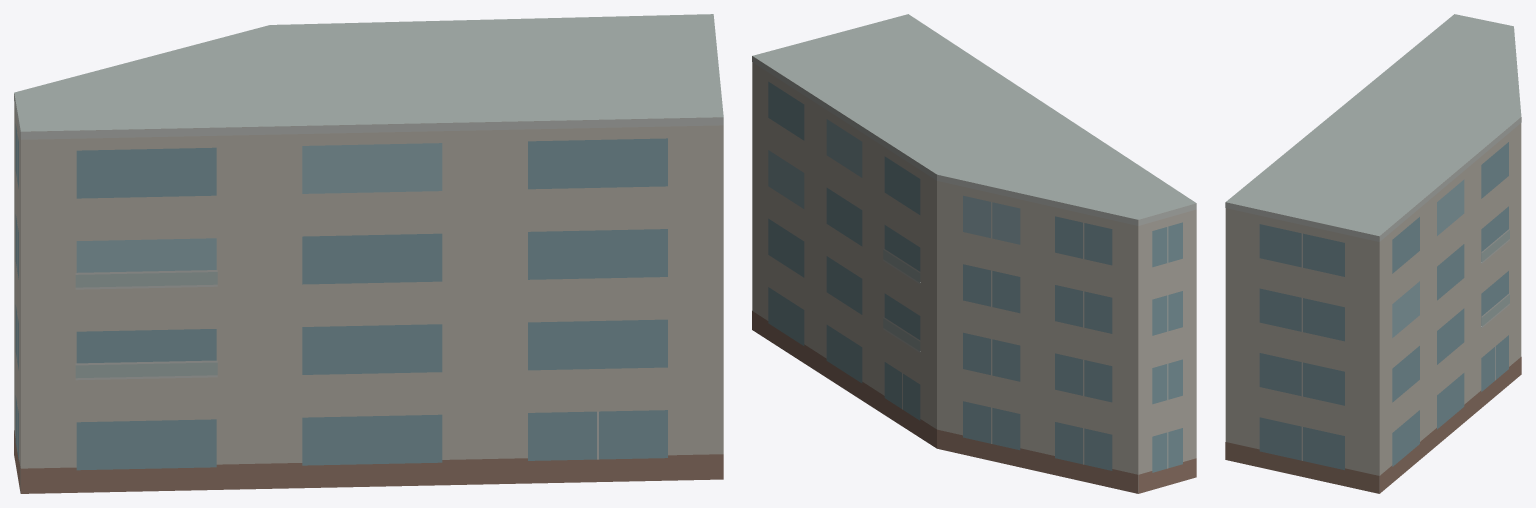
File: survey-upis-32519448.glb
The picture shows the model from 3 angles, left to right: view 1: azimuth 30°, elevation 25°; view 2: azimuth 150°, elevation 25°; view 3: azimuth 270°, elevation 25°; orthographic projection. The views are drawn at different scales.
Visible parts, largest first — view 1: survey-upis-32519448.tmp; view 2: survey-upis-32519448.tmp; view 3: survey-upis-32519448.tmp.
Part boxes in pixels (box(x1,y1,x2,y2)): survey-upis-32519448.tmp: box(14, 14, 723, 493); survey-upis-32519448.tmp: box(752, 14, 1196, 493); survey-upis-32519448.tmp: box(1225, 14, 1521, 493).
Bounding box in the file's own units: 19.99 × 10.8 × 11.25.
